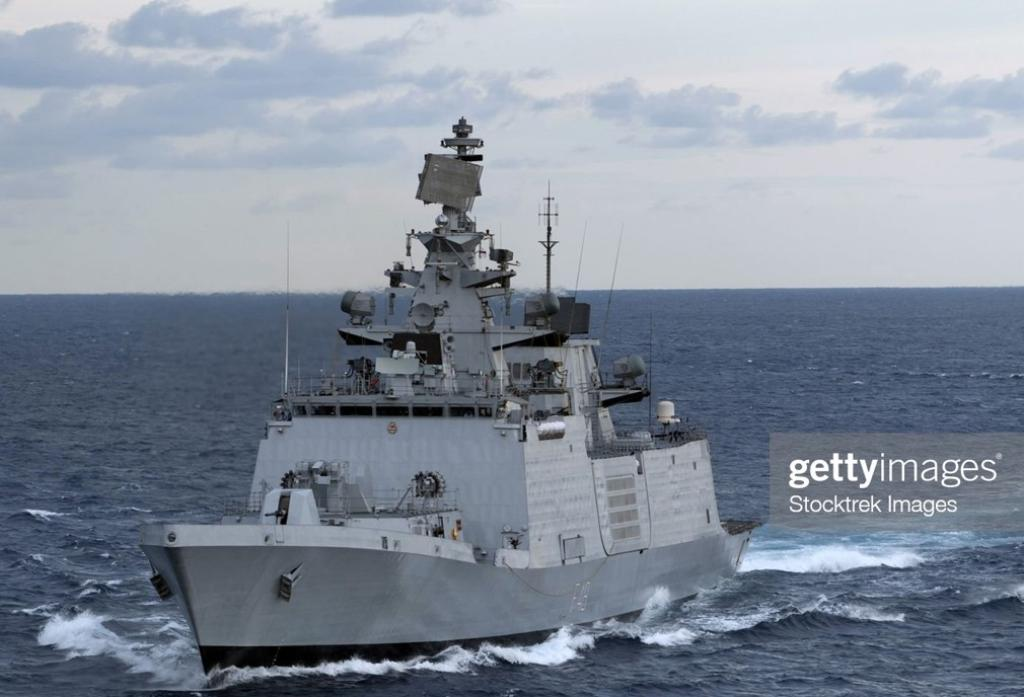Warship: (142, 112, 760, 680)
